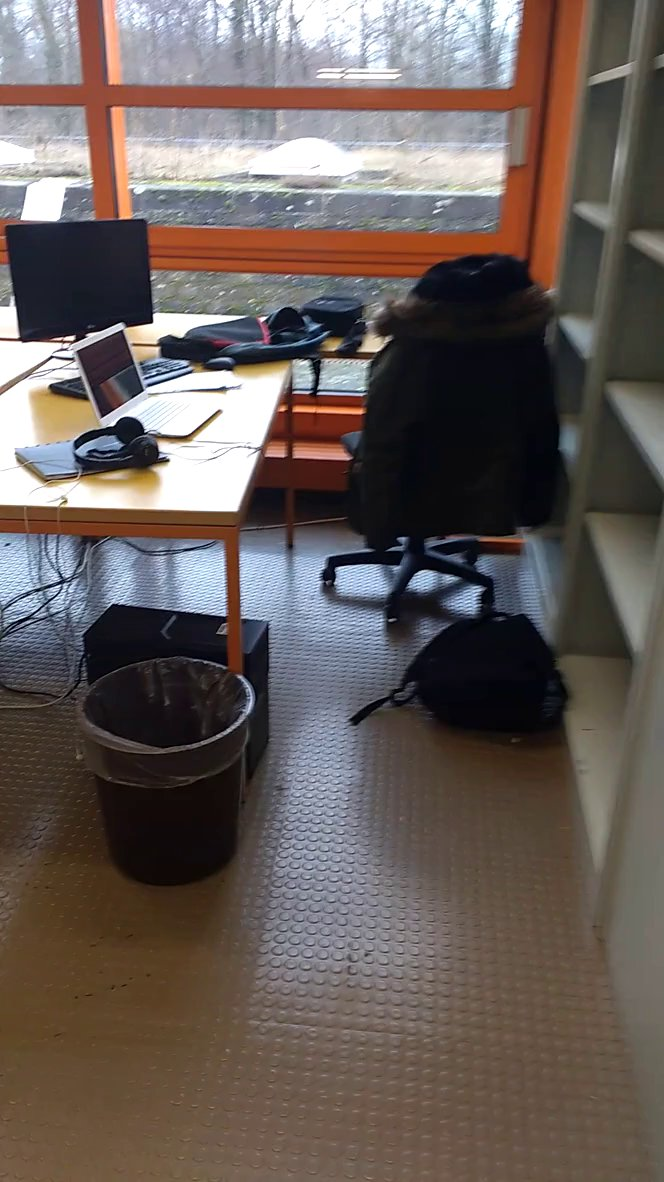bag: (344, 600, 582, 761)
bin: (71, 646, 264, 889)
laptop: (65, 316, 225, 445)
